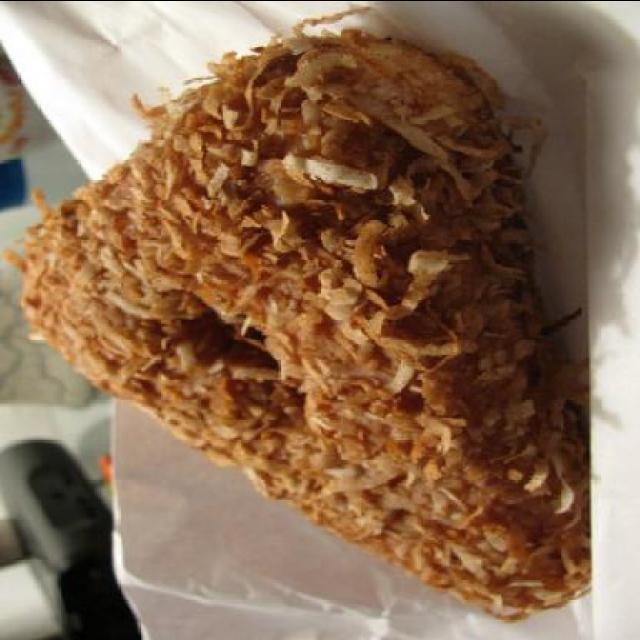Donuts: (10, 22, 632, 606)
